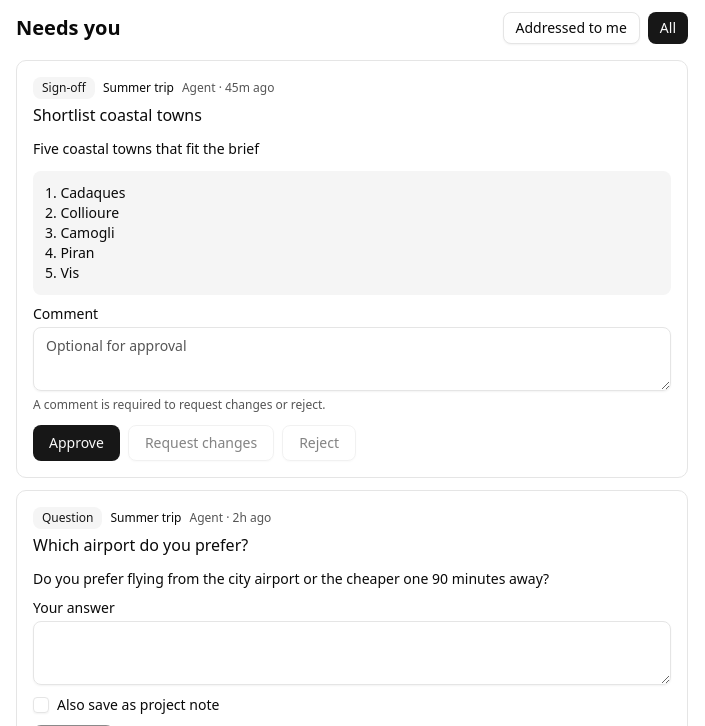
Needs you inbox › approving removes the item and updates the task
Click the button "Approve" at point(76, 443), box x1=33 y1=425 x2=120 y2=461
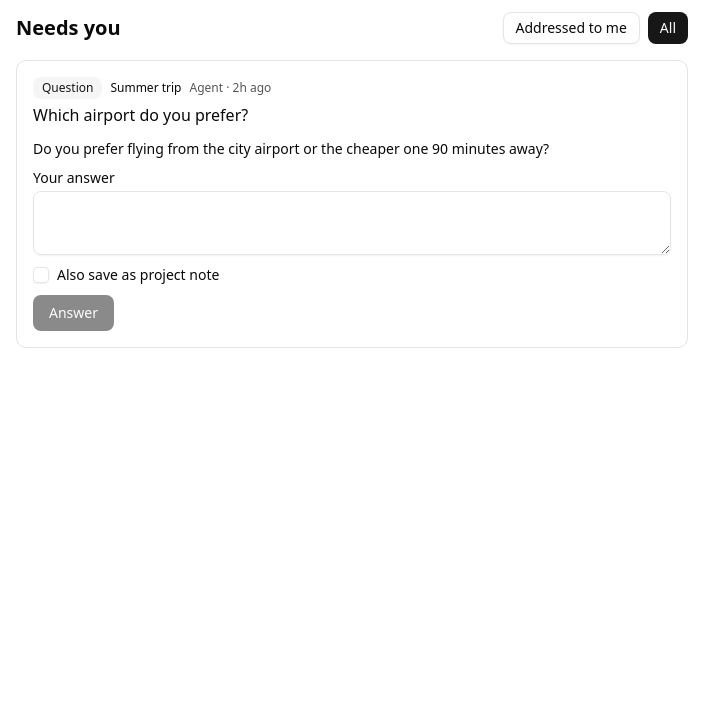
Expected: the text "Five coastal towns that fit the brief" is gone
